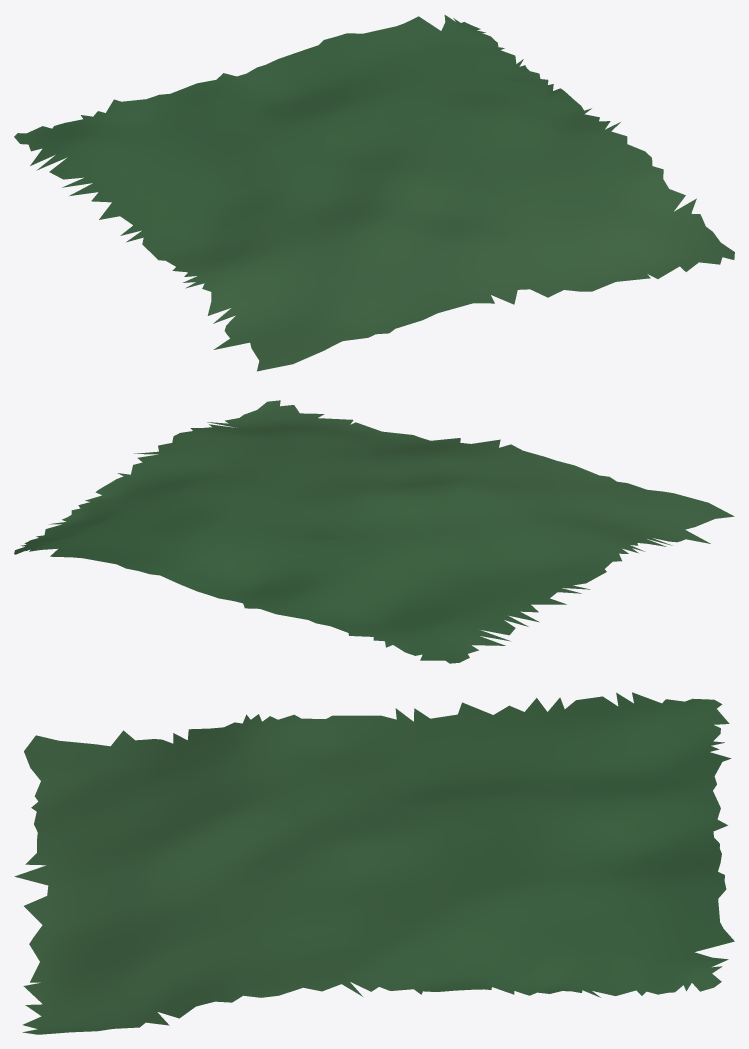
Rendered from payo_land_xm1_y8.glb.
3 renders of one model, top to bottom at view 1: azimuth 30°, elevation 25°; view 2: azimuth 150°, elevation 25°; view 3: azimuth 270°, elevation 25°, orthographic. The views are drawn at different scales.
Visible parts, largest first — view 1: payo_land_xm1_y8; view 2: payo_land_xm1_y8; view 3: payo_land_xm1_y8.
Boxes of the visible parts, <box> form: payo_land_xm1_y8: <box>14,15,734,371</box>; payo_land_xm1_y8: <box>14,400,734,663</box>; payo_land_xm1_y8: <box>14,692,734,1034</box>.
Bounding box in the file's own units: 280 × 30.18 × 270.
